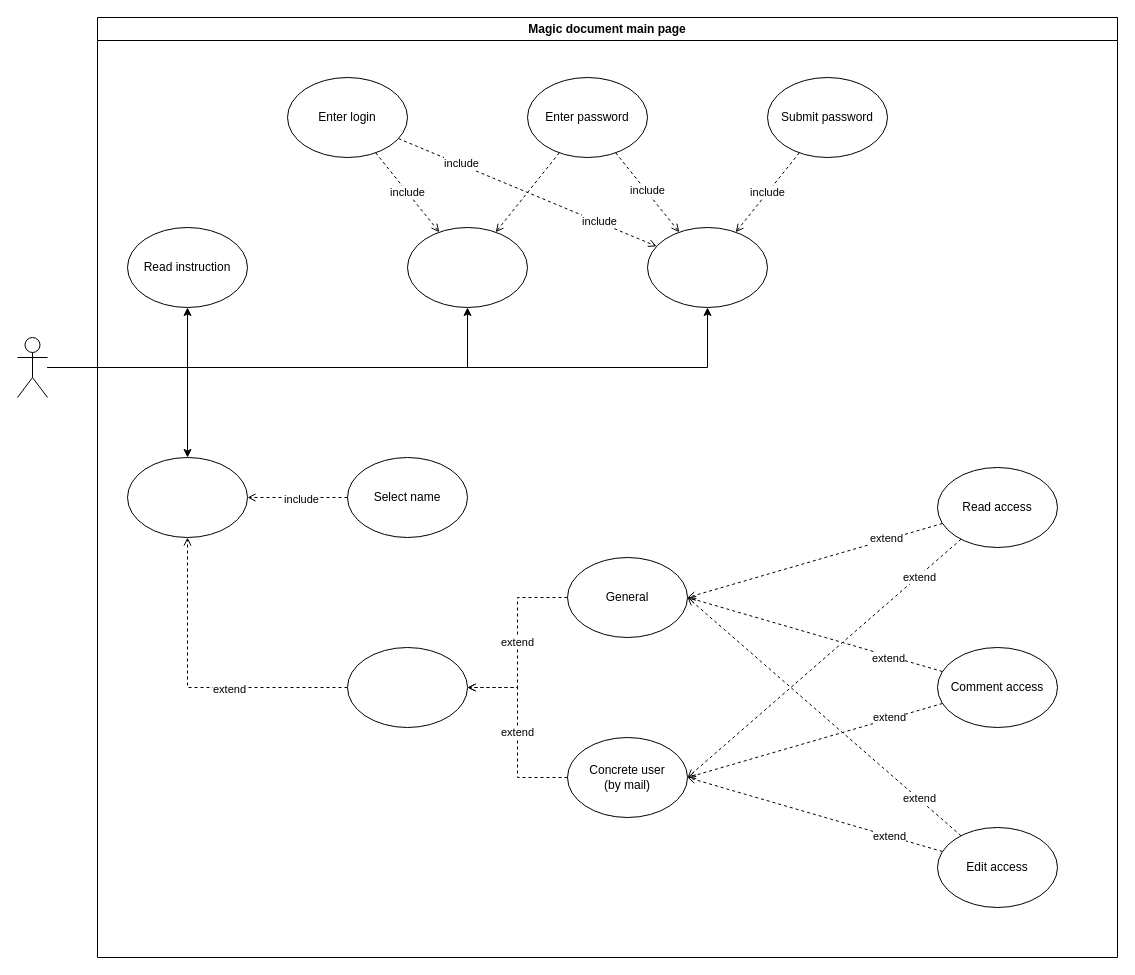
This 1135x975 diagram has some shape labels left out. The shapes that lost their labels are listed below. From the top down, each one's centre as x and y in pixels, then its label:
At point 467,267: "Authorization".
At point 707,267: "Registration".
At point 32,367: "User".
At point 187,497: "Create new document".
At point 407,687: "Grant access".
